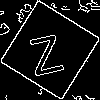Z: (25, 25, 65, 77)
